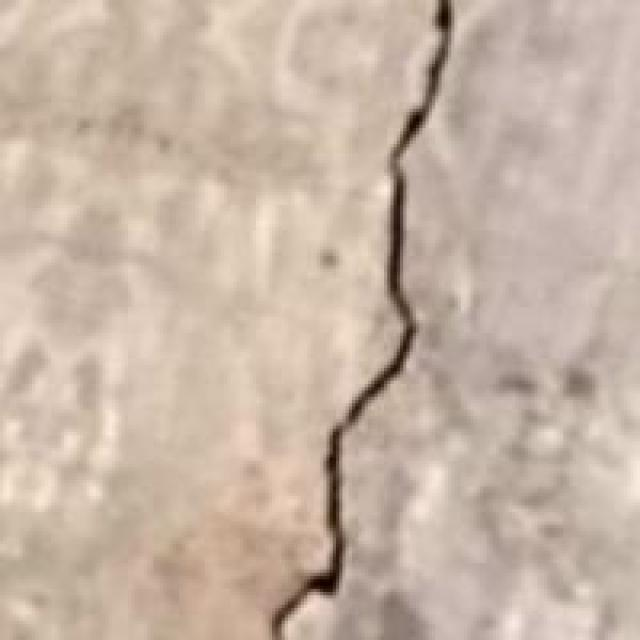crack: (250, 0, 467, 637)
